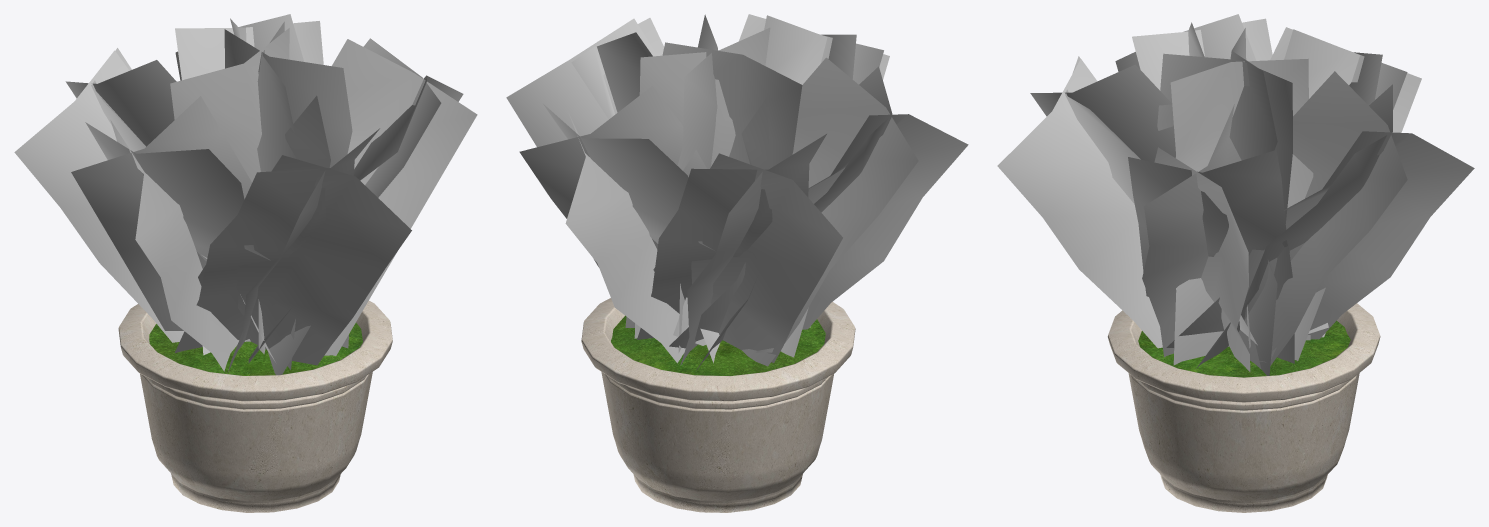
The model's file is chaucay_3.fbx.
3 views of the same model, side by side, from view 1: azimuth 30°, elevation 25°; view 2: azimuth 150°, elevation 25°; view 3: azimuth 270°, elevation 25° (orthographic).
Parts seen in each view (by area): view 1: chaucay_C; view 2: chaucay_C; view 3: chaucay_C.
Boxes of the visible parts, x1,y1,x2,y2 form: chaucay_C: [14, 14, 477, 512]; chaucay_C: [506, 14, 968, 512]; chaucay_C: [997, 14, 1474, 512].
Bounding box in the file's own units: 65.84 × 67.51 × 68.36.
